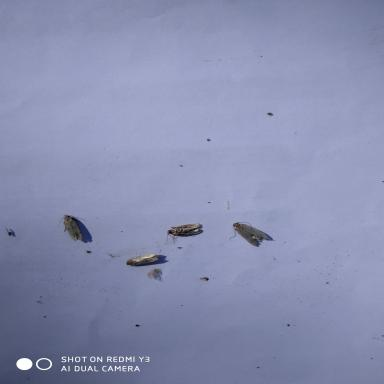pbw: (225, 218, 277, 254), (57, 213, 95, 245), (120, 247, 164, 271), (160, 221, 207, 242)
